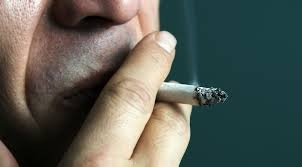sigaretta: (133, 82, 221, 109)
